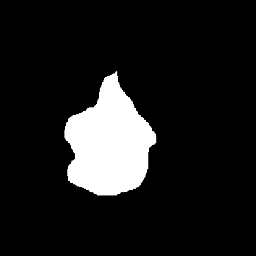mass: (61, 72, 156, 186)
